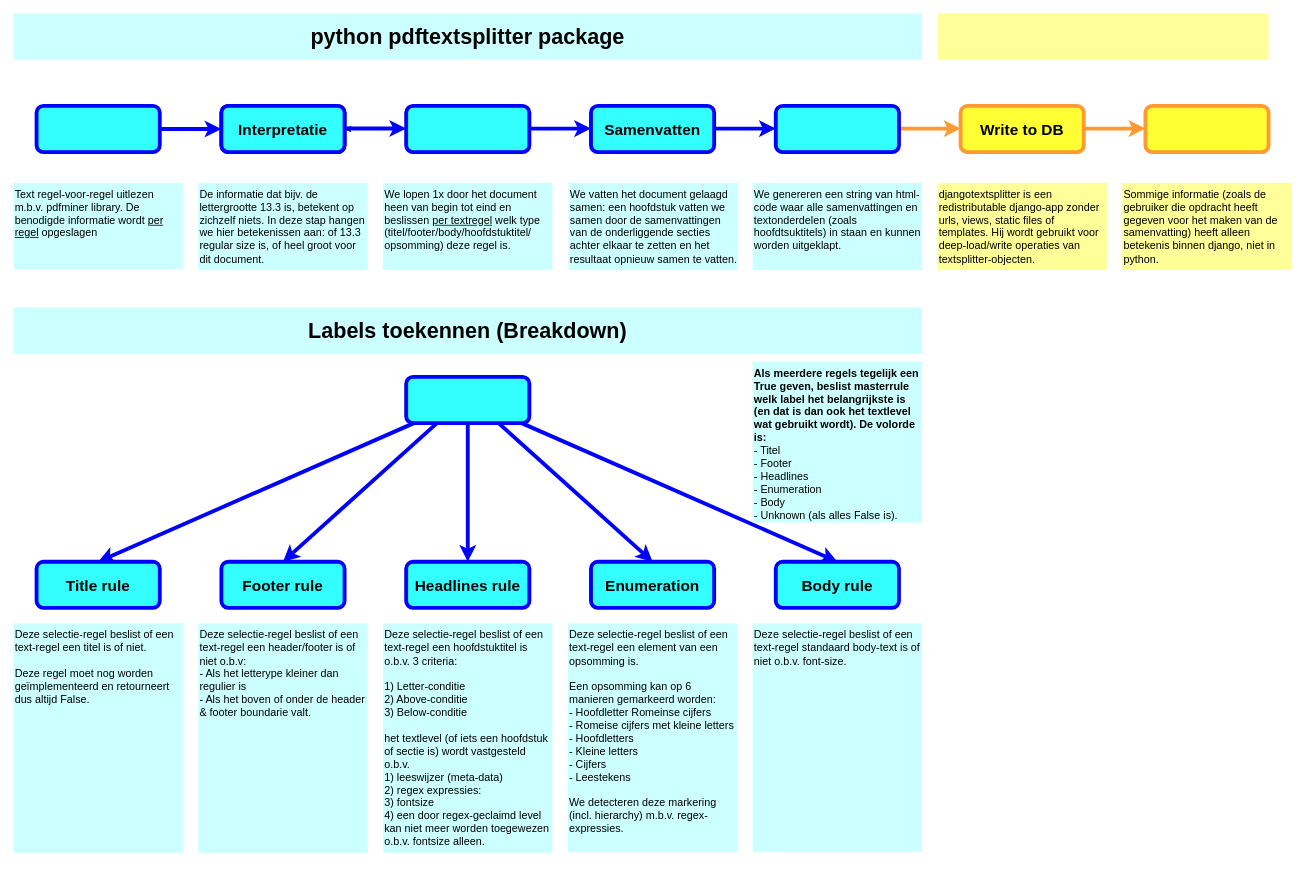
The diagram is 1304 pixels wide and 887 high, and some of its shapes have lost their labels. The centre of each missing label's shape, as x and y in pixels:
"Add django-info" goes at pixel 1206 129.
"Breakdown" goes at pixel 467 129.
"Djangotextsplitter app" goes at pixel 1102 36.
"HTML parsing" goes at pixel 837 129.
"Masterrule" goes at pixel 467 400.
"PDF inlezen" goes at pixel 97 129.
